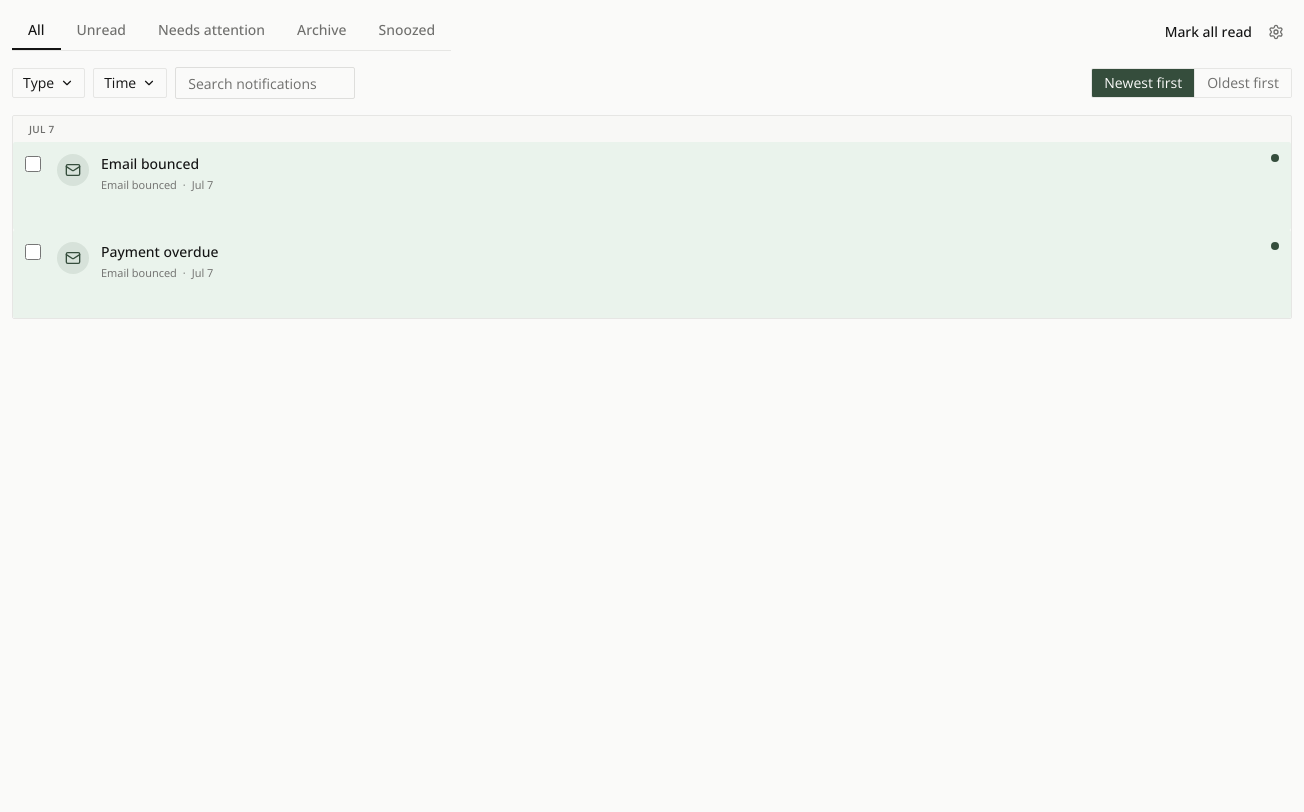
it: NotificationsPageClient — undo snackbar after bulk archive (E5) › bulk archiving 2 rows shows the snackbar with '2 notifications'
# Select both rows
Click the 1st checkbox with test id "notification-select-checkbox".
click(33, 164)  # box [25,156,41,172]
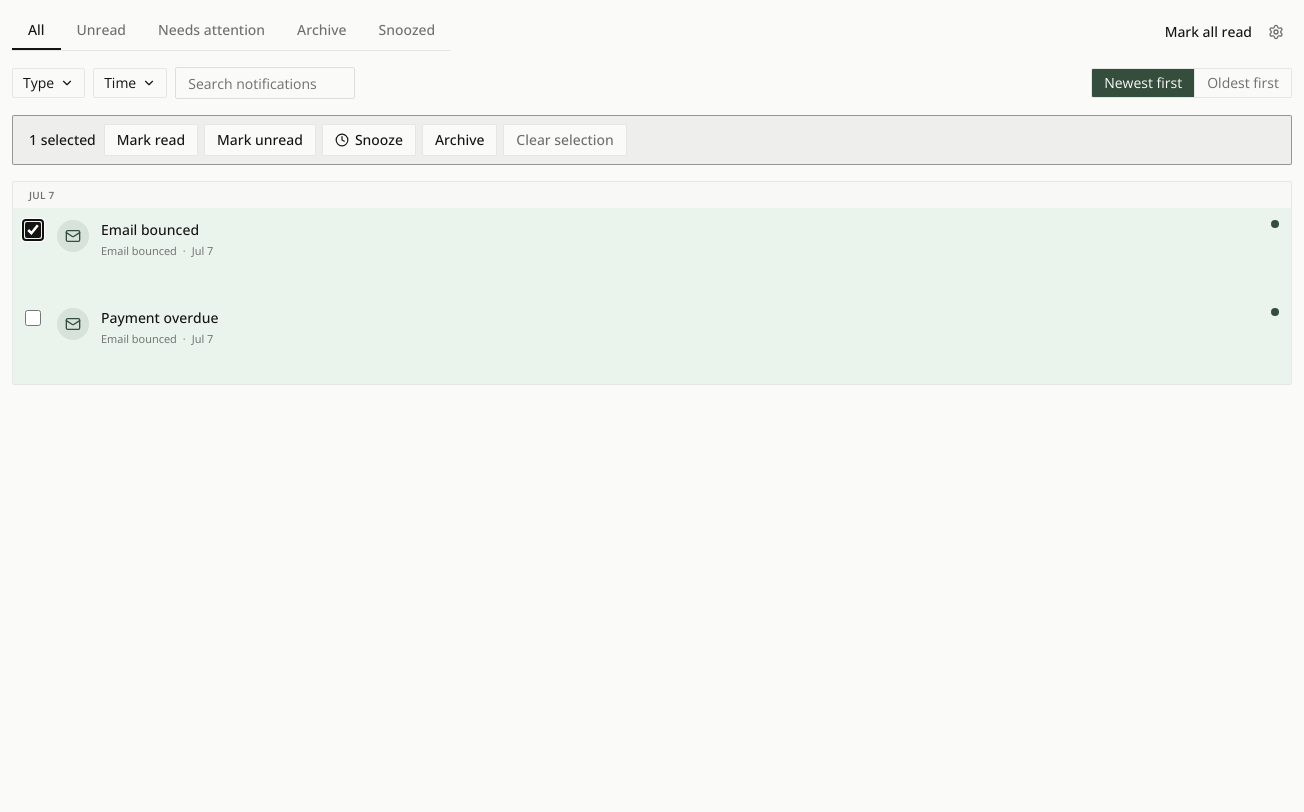
Click the 2nd checkbox with test id "notification-select-checkbox".
click(33, 318)  # box [25,310,41,326]
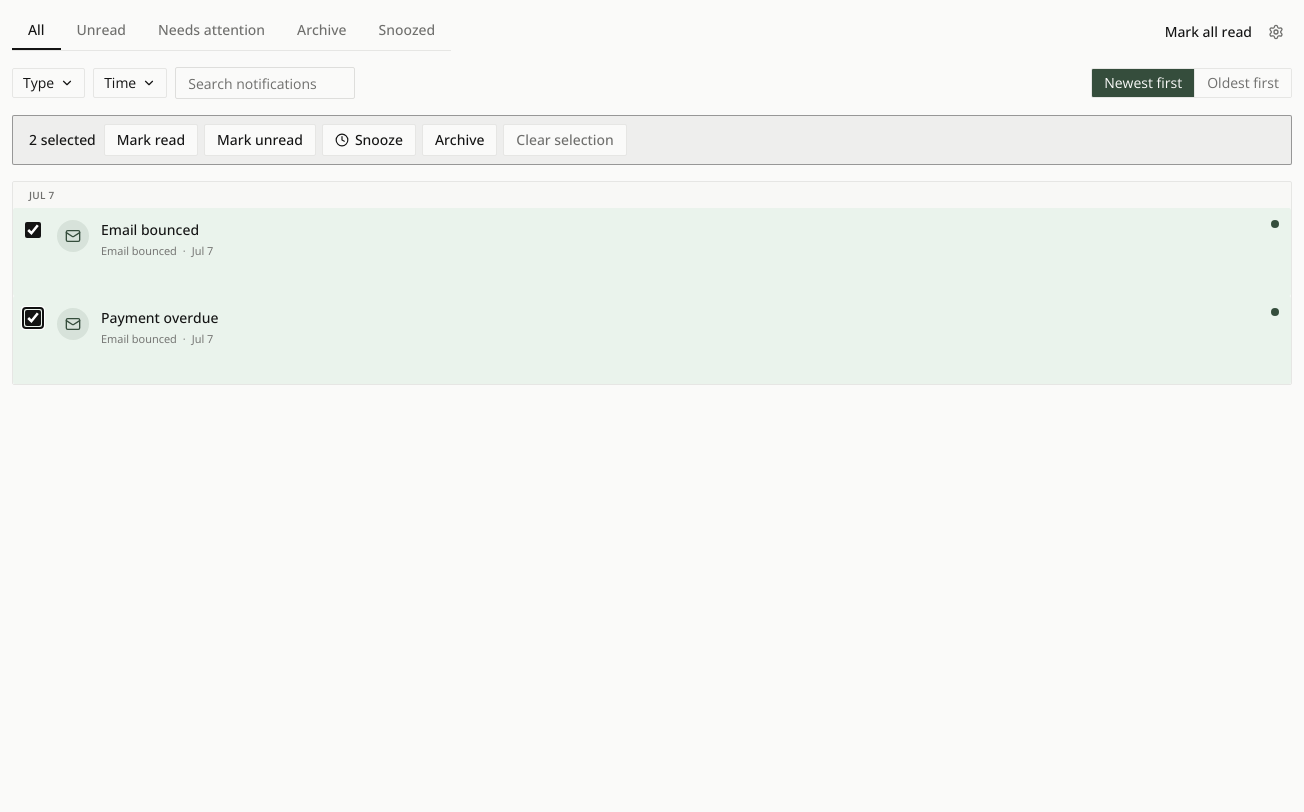
# Click bulk archive
Click the button with test id "bulk-action-archive".
click(460, 140)  # box [422,124,497,156]
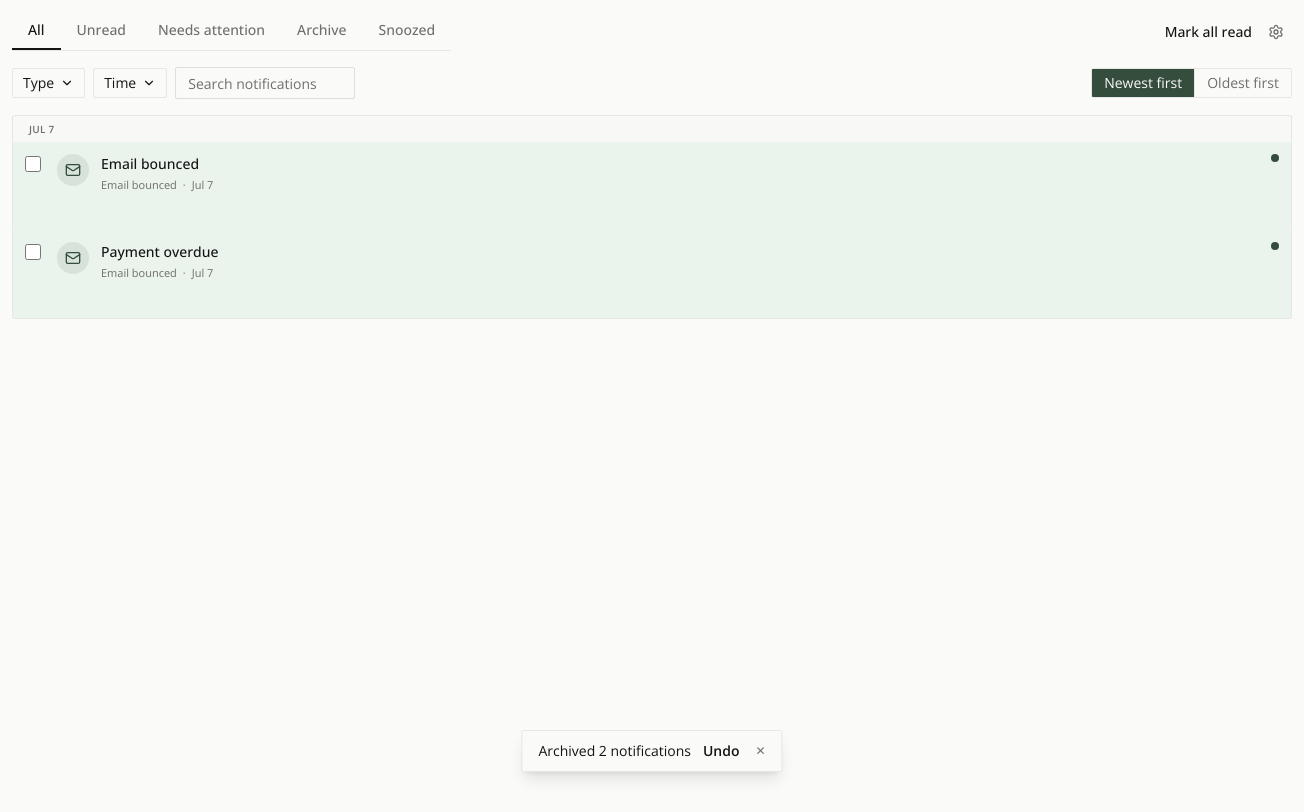
Result: the message "Archived 2 notifications Undo ✕" is shown at [521,730,783,772]
Result: the message with test id "undo-snackbar" shows "Archived 2 notifications" at [538,741,691,760]
